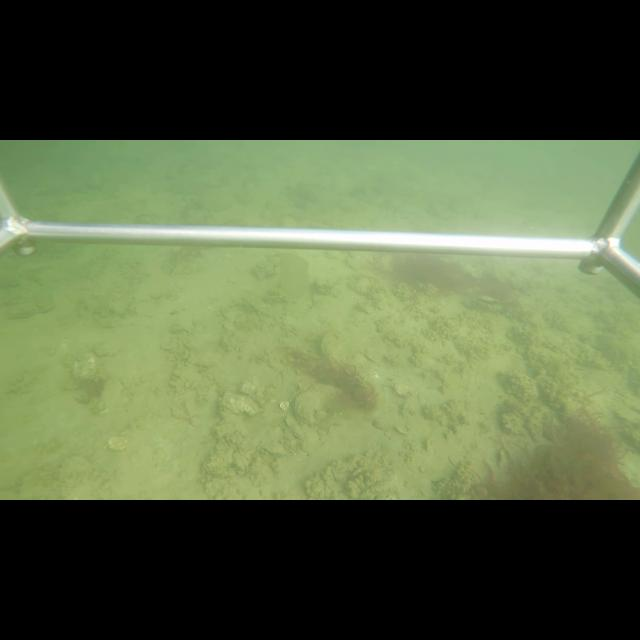Oyster-Closed: (290, 381, 351, 433), (257, 438, 292, 459)
Oyster-Open: (475, 295, 504, 313)
